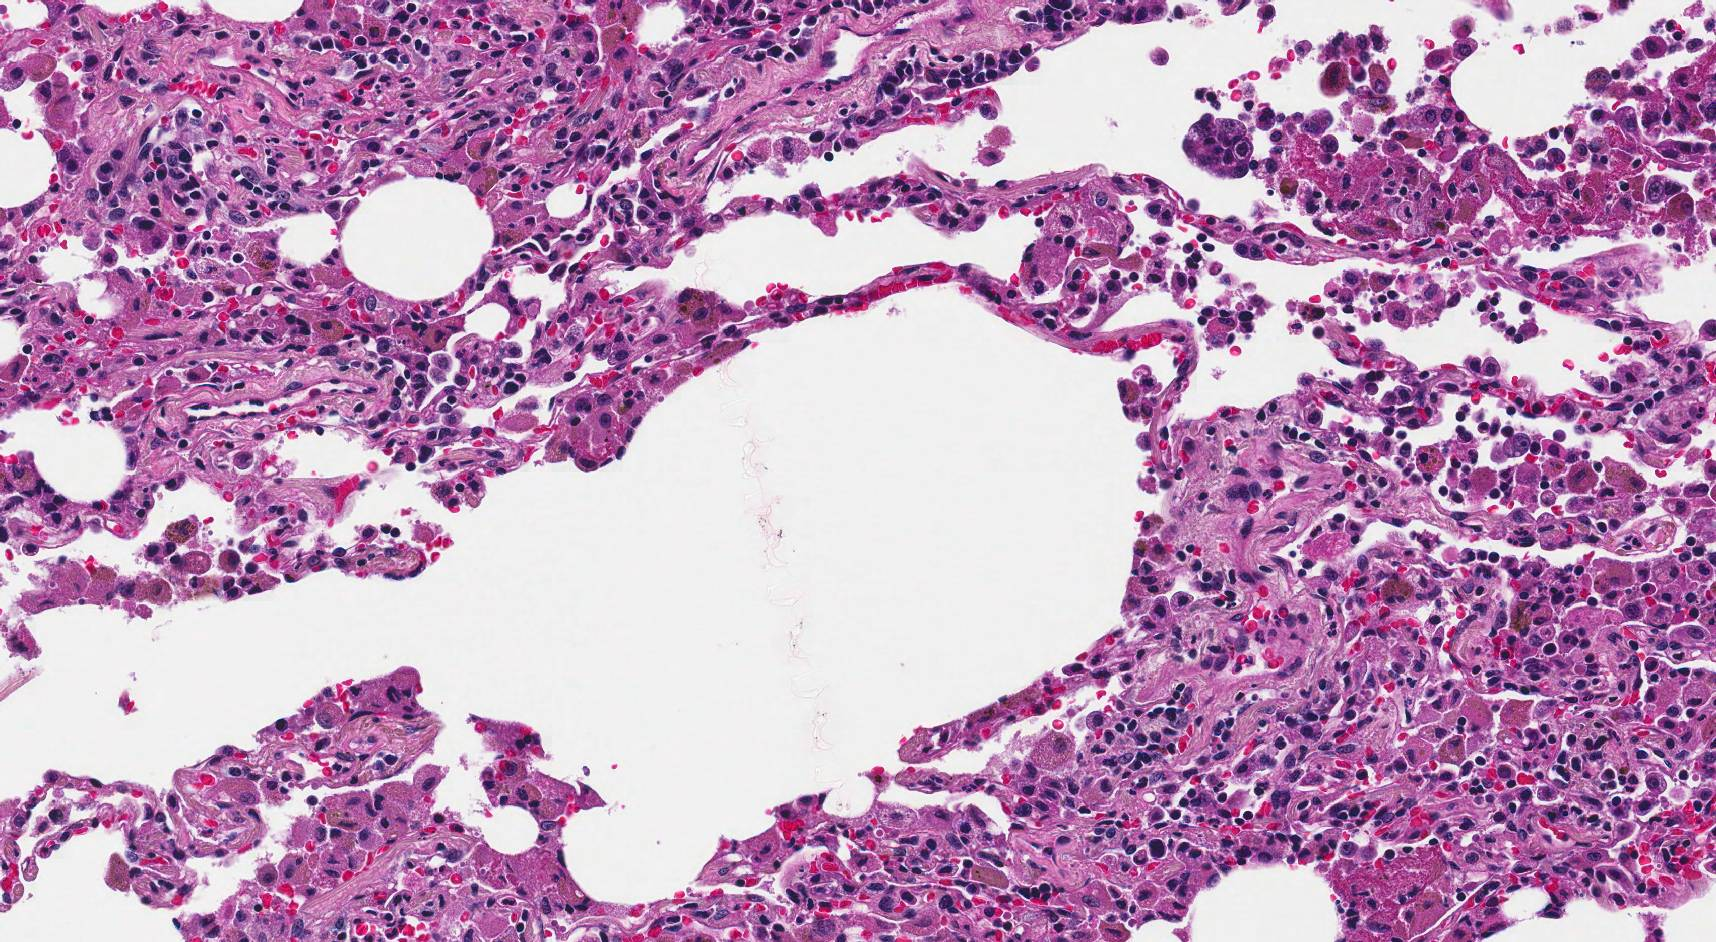stas: (1180, 112, 1255, 179)
